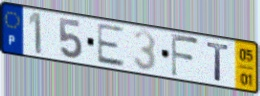1: (28, 10, 43, 56)
3: (131, 28, 157, 74)
5: (57, 16, 84, 60)
E: (96, 21, 127, 69)
F: (170, 32, 201, 79)
T: (205, 40, 231, 83)
